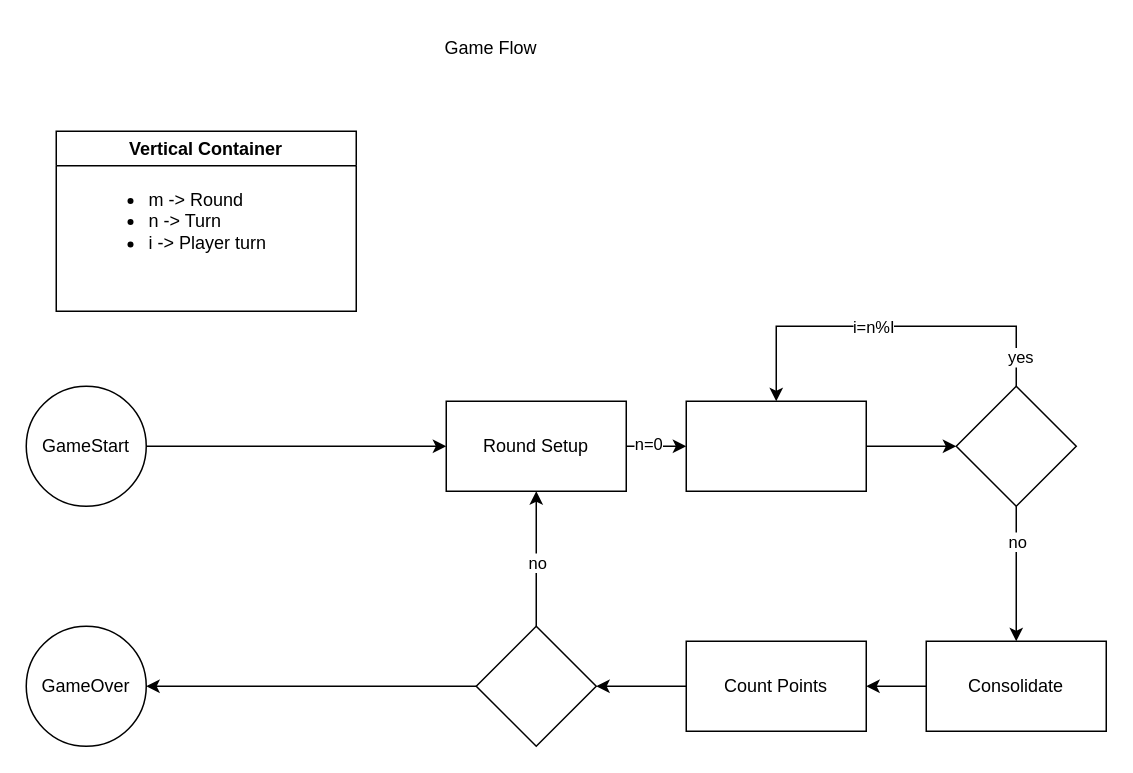
Image size: 1133x773. Some labels were removed from this diagram. Here are the shapes that lost their labels. From the top down, the centre of each, then its label:
At [775,445]: "Player i Turn".
At [1015,445]: "Tiles left?".
At [535,685]: "Row full?".
